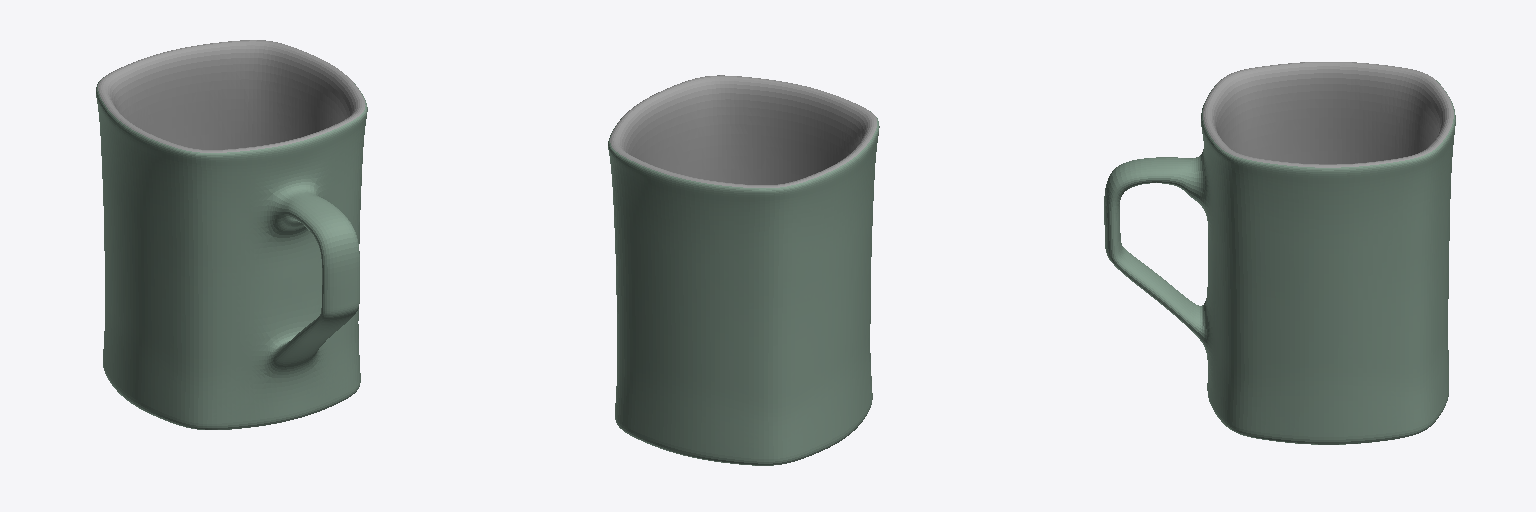
Rendered from nescafemug.obj.
The picture shows the model from 3 angles: view 1: azimuth 30°, elevation 25°; view 2: azimuth 150°, elevation 25°; view 3: azimuth 270°, elevation 25°; orthographic projection.
Visible parts, largest first — view 1: Circle_Circle.001; view 2: Circle_Circle.001; view 3: Circle_Circle.001.
Boxes of the visible parts, box(x1,y1,x2,y2) form: Circle_Circle.001: box(96, 40, 367, 429); Circle_Circle.001: box(608, 75, 879, 465); Circle_Circle.001: box(1104, 62, 1455, 444).
Size of the model in its own units: 2.48 by 3.07 by 3.42.